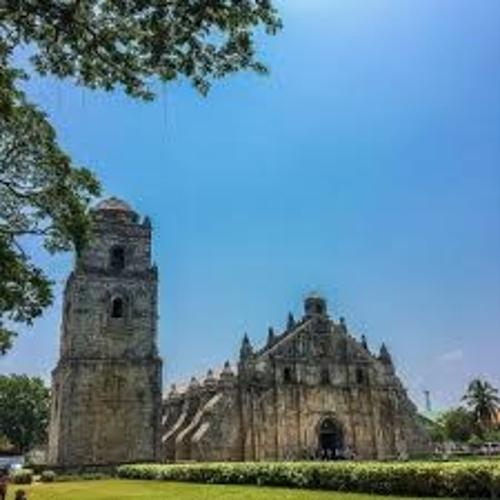Paoay Church: (46, 180, 446, 471)
